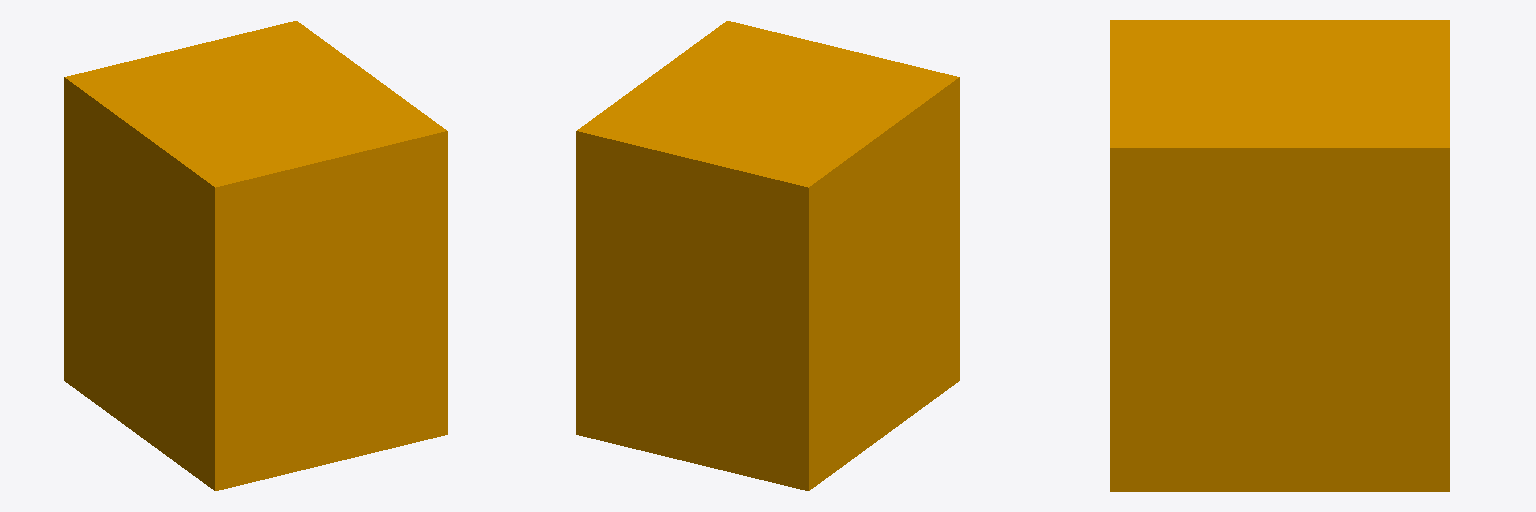
The robot description file, URDF, robot "object":
<robot name="object">
  <link name="object">
    <visual>
      <origin xyz="0 0 0" />
      <geometry>
        <box size="0.064 0.07200000000000001 0.08" />
      </geometry>
    </visual>

    <collision>
      <origin xyz="0 0 0" />
      <geometry>
        <box size="0.064 0.07200000000000001 0.08" />
      </geometry>
    </collision>

    <inertial>
      <mass value="0.05" />
      <inertia ixx="0.0001" ixy="0.0" ixz="0.0" iyy="0.0001" iyz="0.0" izz="0.0001" />
    </inertial>
  </link>
</robot>

--- What the picture shows (computed from the rendered views, not written in the file) ---
3 views of the same robot in one strip: view 1: azimuth 30°, elevation 25°; view 2: azimuth 150°, elevation 25°; view 3: azimuth 270°, elevation 25° (orthographic).
Robot: object — 1 links, 0 joints (none); root link object; default pose: all joints at 0.
Visible links, largest first — view 1: object; view 2: object; view 3: object.
Boxes of the visible links, <box> form: object: <box>64,21,447,490</box>; object: <box>576,21,959,490</box>; object: <box>1110,20,1449,491</box>.
Size in the robot's own frame: 0.064 by 0.072 by 0.08 metres.
Geometry: primitives only (box / cylinder / sphere), no mesh files.